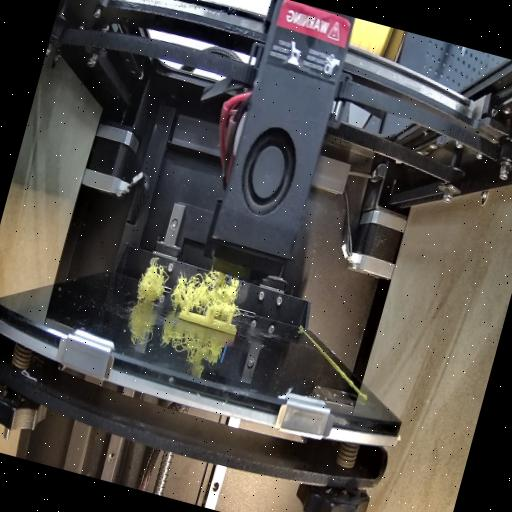spaghetti: (167, 254, 249, 324), (130, 252, 174, 312)
